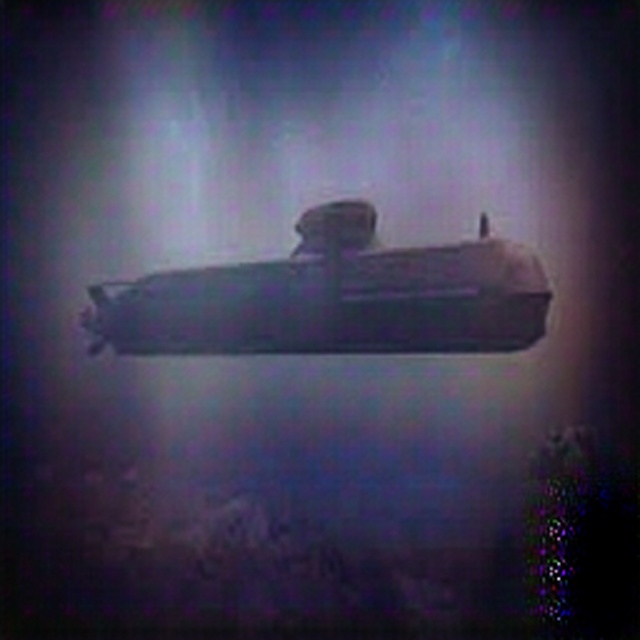submarine: (68, 174, 568, 395)
